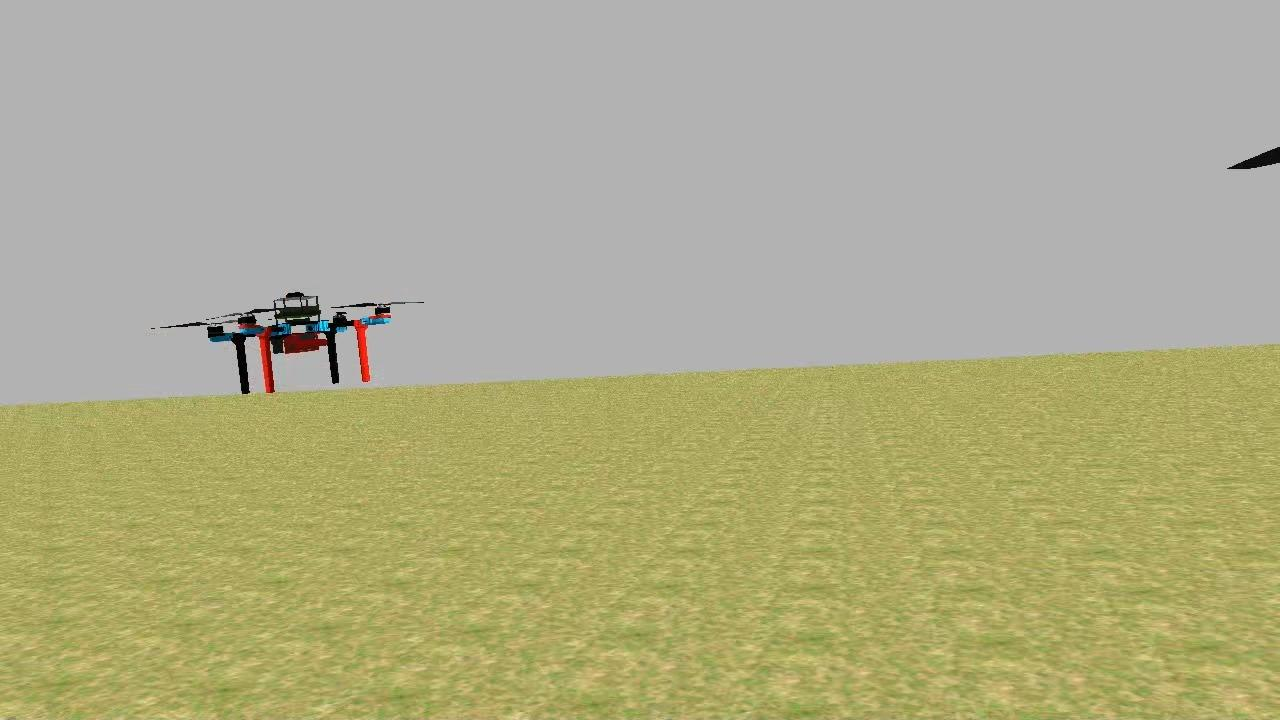UAV: (204, 284, 398, 400)
